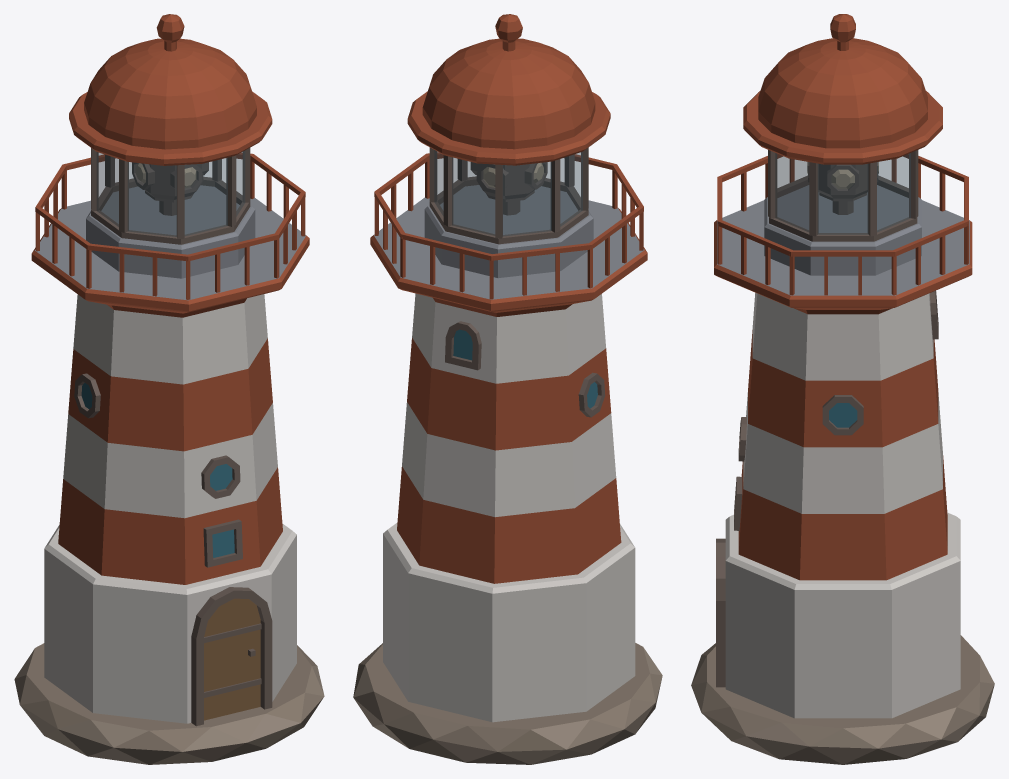
File: lighthouse.glb
The picture shows the model from 3 angles, left to right: view 1: azimuth 30°, elevation 25°; view 2: azimuth 150°, elevation 25°; view 3: azimuth 270°, elevation 25°; orthographic projection.
Visible parts, largest first — view 1: tower, lantern-glass, lamp-lens; view 2: tower, lantern-glass, lamp-lens; view 3: tower, lantern-glass, lamp-lens.
Part boxes in pixels (x1,y1,x2,y2): tower: (14,14,324,764); lantern-glass: (97,151,244,236); lamp-lens: (132,162,208,215); tower: (353,14,662,764); lantern-glass: (434,150,582,236); lamp-lens: (470,162,547,215); tower: (691,14,994,764); lantern-glass: (775,153,910,234); lamp-lens: (807,162,878,214).
Size of the model in its own units: 4.83 by 11.95 by 4.78.
